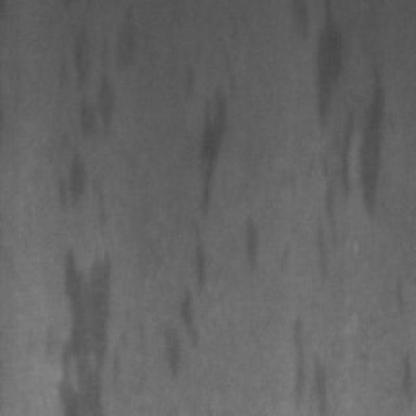inclusion: (35, 6, 127, 410), (154, 77, 229, 377), (308, 0, 385, 256), (285, 310, 329, 410), (235, 206, 262, 268)
